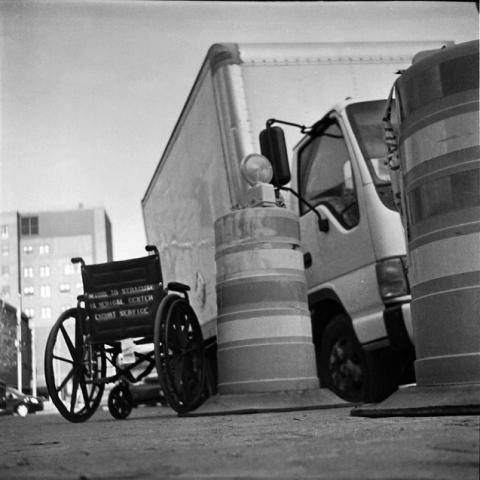car: (123, 364, 168, 409), (0, 380, 44, 417)
truck: (140, 41, 452, 402)
